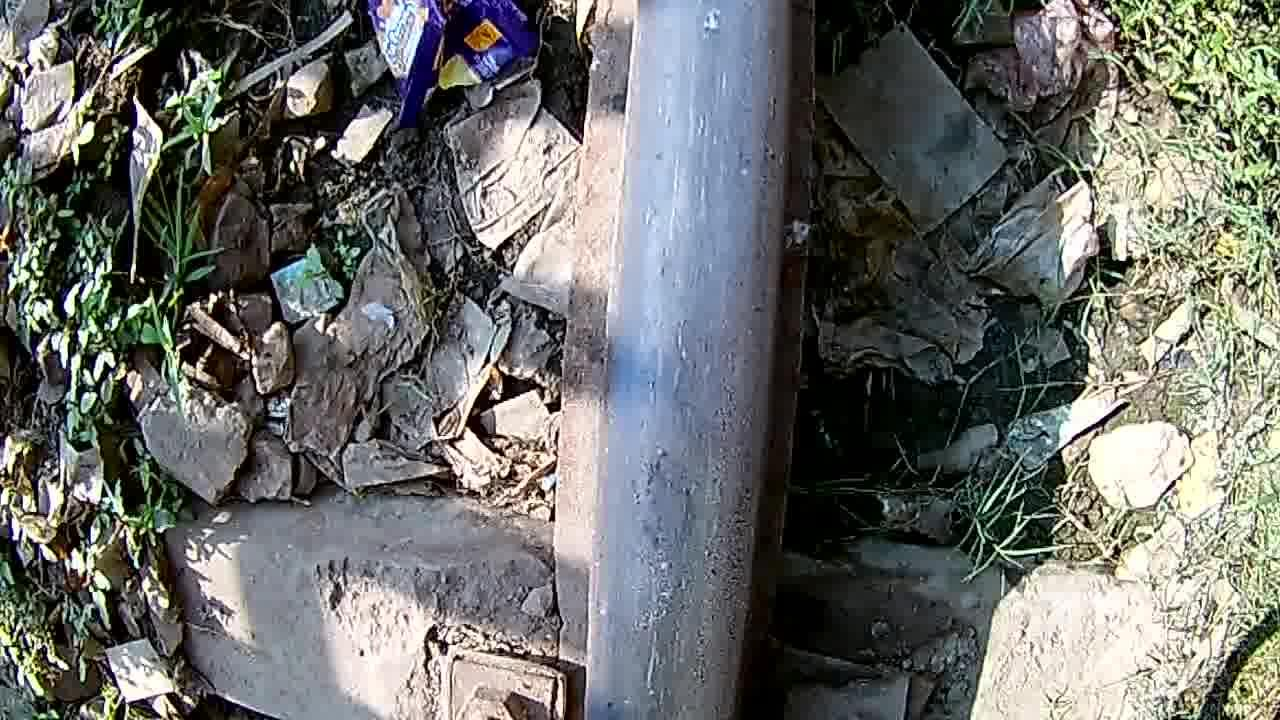bolt_missing: (596, 404, 753, 620)
